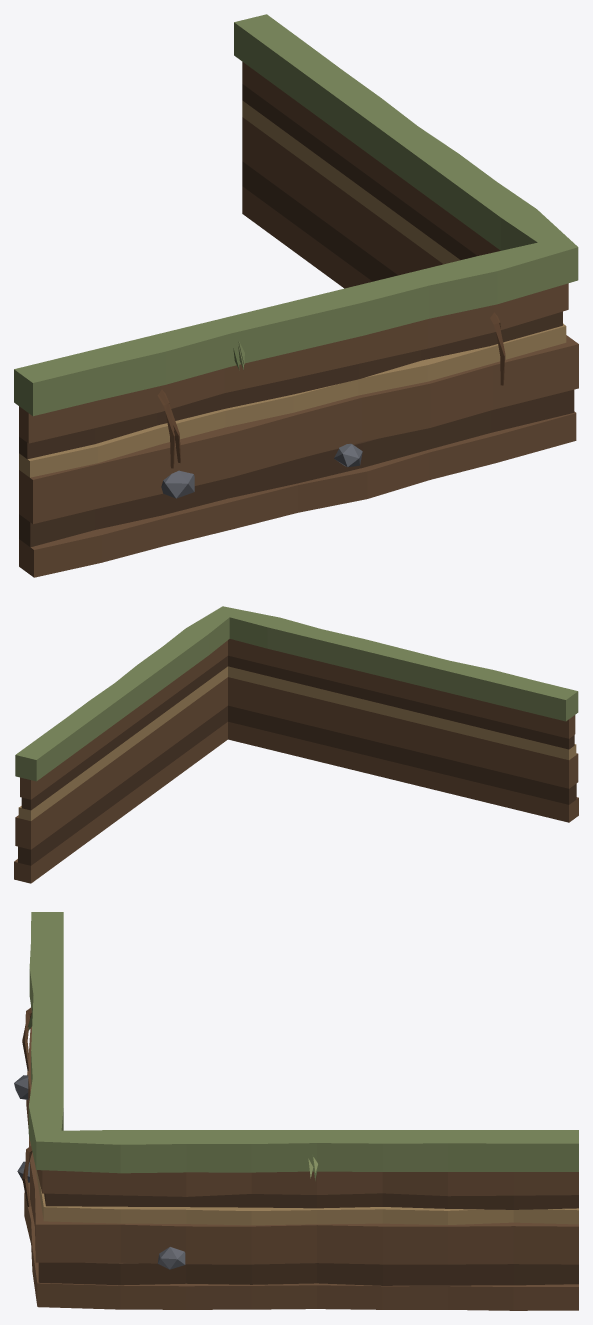
Rendered from Board Edge Corner.fbx.
3 renders of one model, top to bottom at view 1: azimuth 30°, elevation 25°; view 2: azimuth 150°, elevation 25°; view 3: azimuth 270°, elevation 25°, orthographic. The views are drawn at different scales.
Visible parts, largest first — view 1: Board Edge Corner; view 2: Board Edge Corner; view 3: Board Edge Corner.
Part boxes in pixels (bbox=[...]): Board Edge Corner: bbox=[14, 14, 578, 577]; Board Edge Corner: bbox=[14, 606, 578, 883]; Board Edge Corner: bbox=[14, 912, 578, 1310].
Size of the model in its own units: 1.07 by 0.35 by 1.08.
